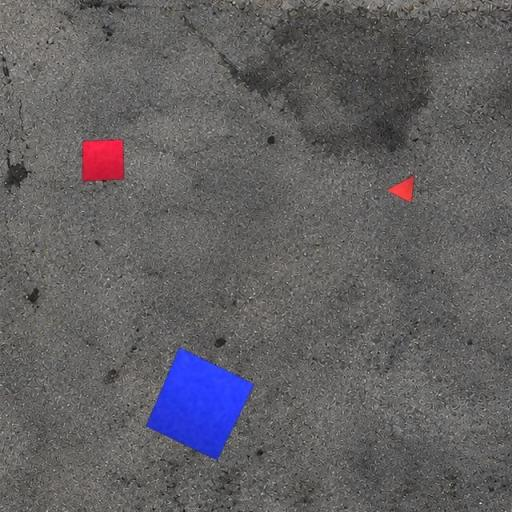BLUE_SQUARE: (146, 346, 255, 461)
RED_SQUARE: (82, 138, 124, 182)
